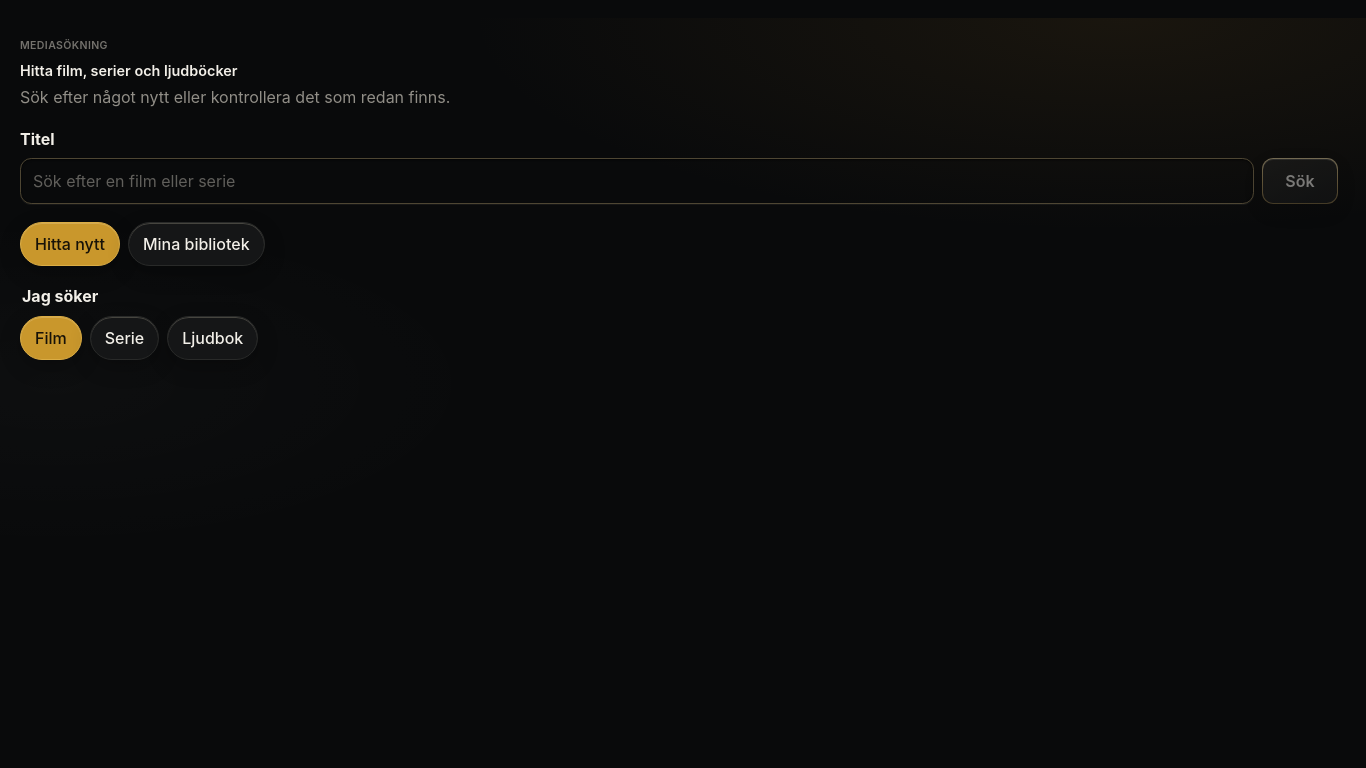
Scenario: Film library search excludes series and changing to Serie clears the old result
Click the button "Mina bibliotek".
click(196, 244)  # box x1=128 y1=222 x2=265 y2=266
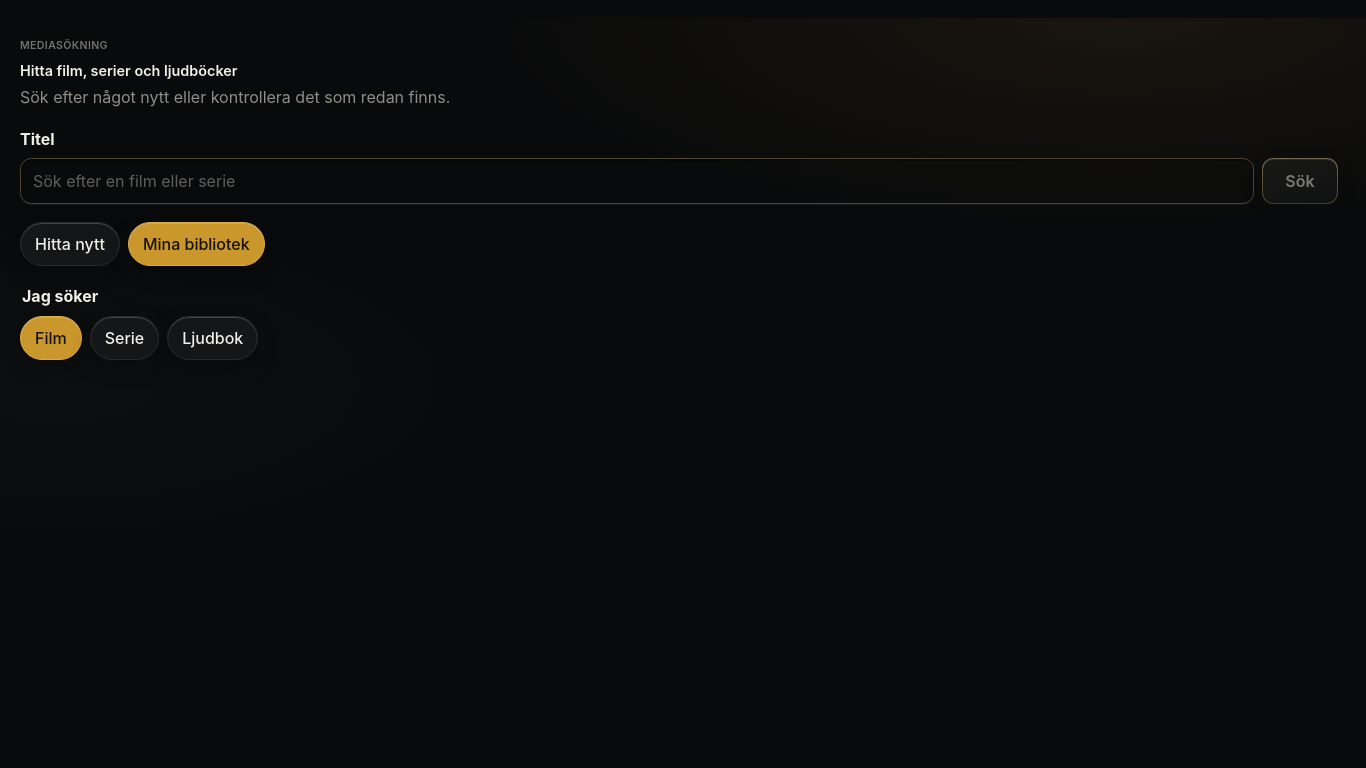
Type "Film" into the search field.
click(637, 181); type("Film")  # box x1=20 y1=158 x2=1254 y2=204
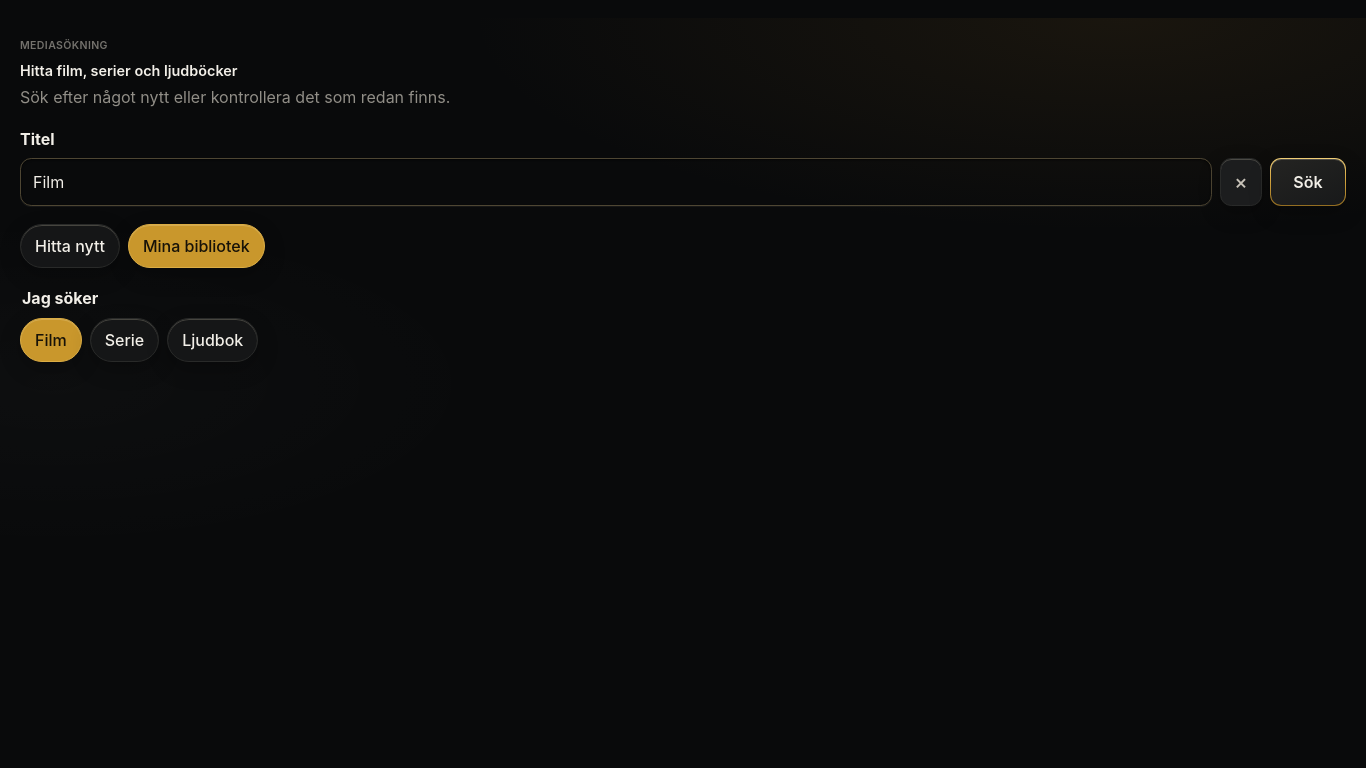
Click the button "Sök".
click(1308, 182)  # box x1=1270 y1=158 x2=1346 y2=206
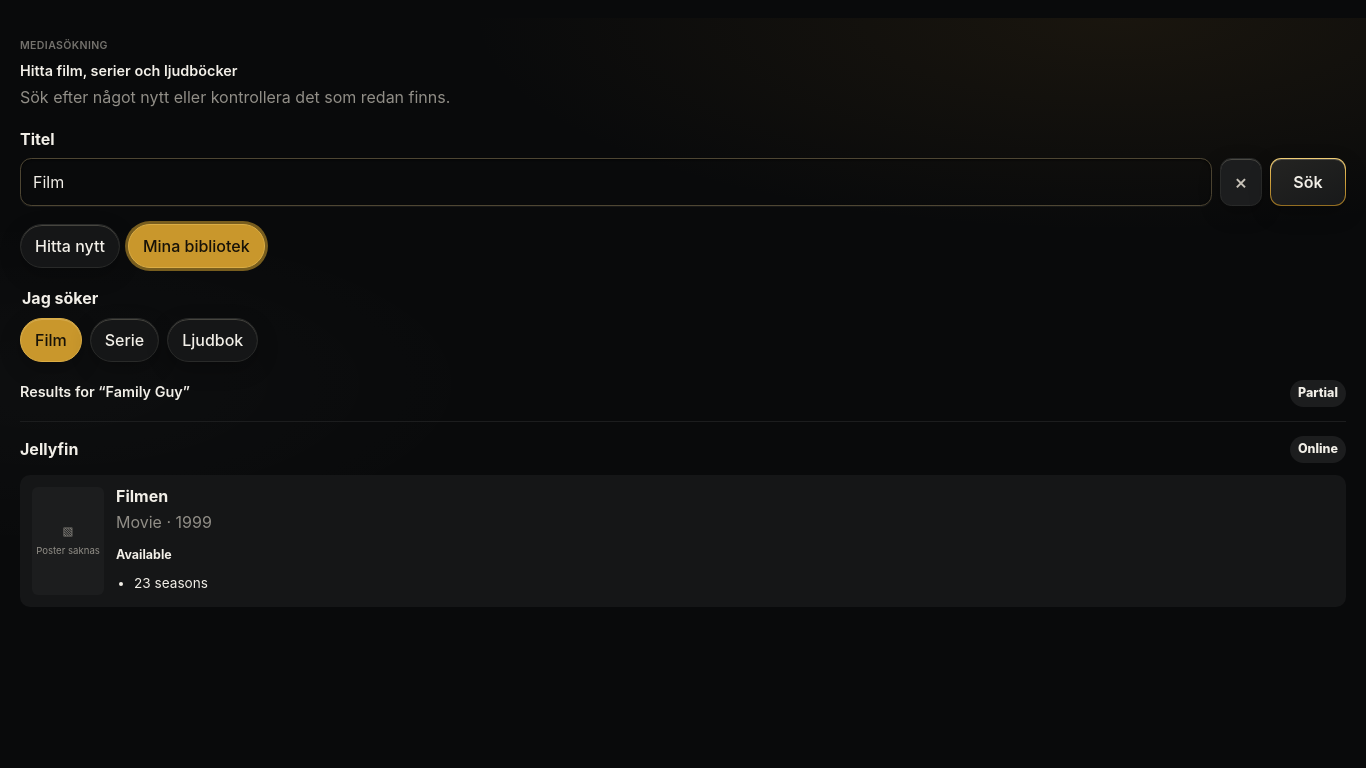
Expected: the heading "Filmen" is shown, x1=116 y1=486 x2=168 y2=506
Click the button "Serie".
click(124, 340)  # box x1=90 y1=318 x2=159 y2=362
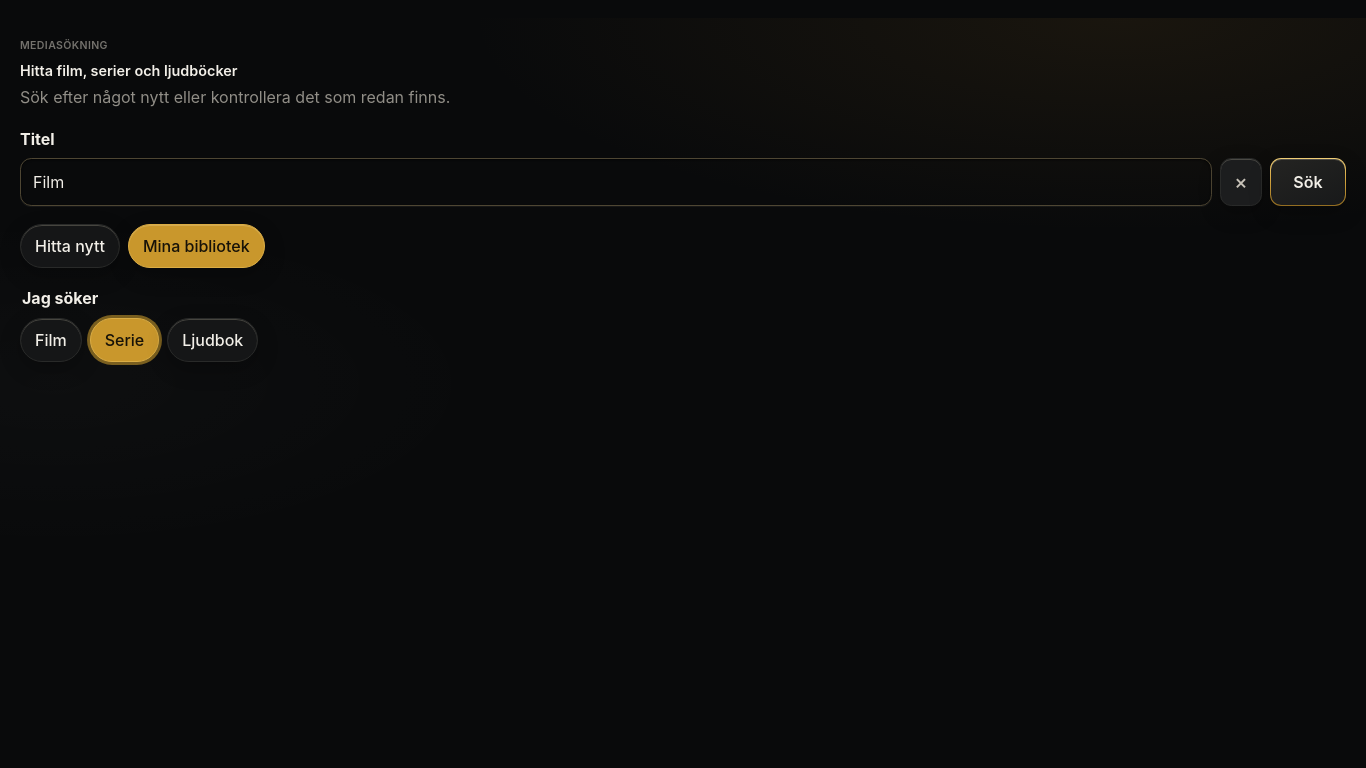
Expected: the heading "Filmen" is gone
